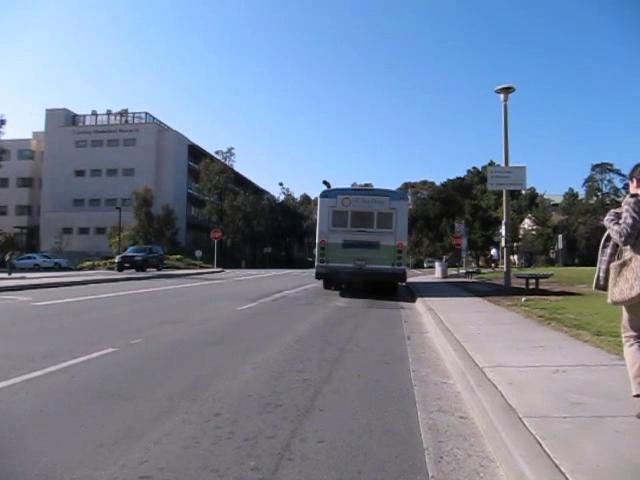stop: (209, 226, 223, 241)
